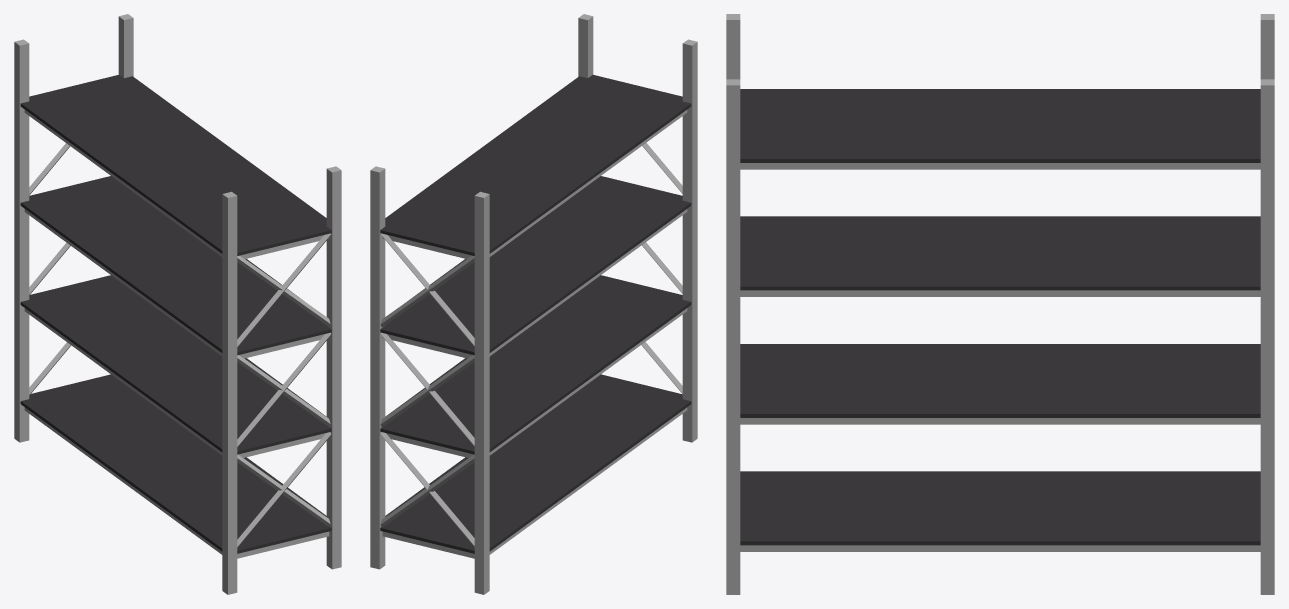
The model's file is SM_metalShelf_01.glb.
3 views of the same model, side by side, from view 1: azimuth 30°, elevation 25°; view 2: azimuth 150°, elevation 25°; view 3: azimuth 270°, elevation 25° (orthographic). The views are drawn at different scales.
Parts seen in each view (by area): view 1: SM_metalShelf_01; view 2: SM_metalShelf_01; view 3: SM_metalShelf_01.
Boxes of the visible parts, <box> form: SM_metalShelf_01: <box>14,14,341,594</box>; SM_metalShelf_01: <box>370,14,697,594</box>; SM_metalShelf_01: <box>726,14,1274,594</box>.
Size of the model in its own units: 0.6 by 2 by 1.95.
1 material, 1 textured.
